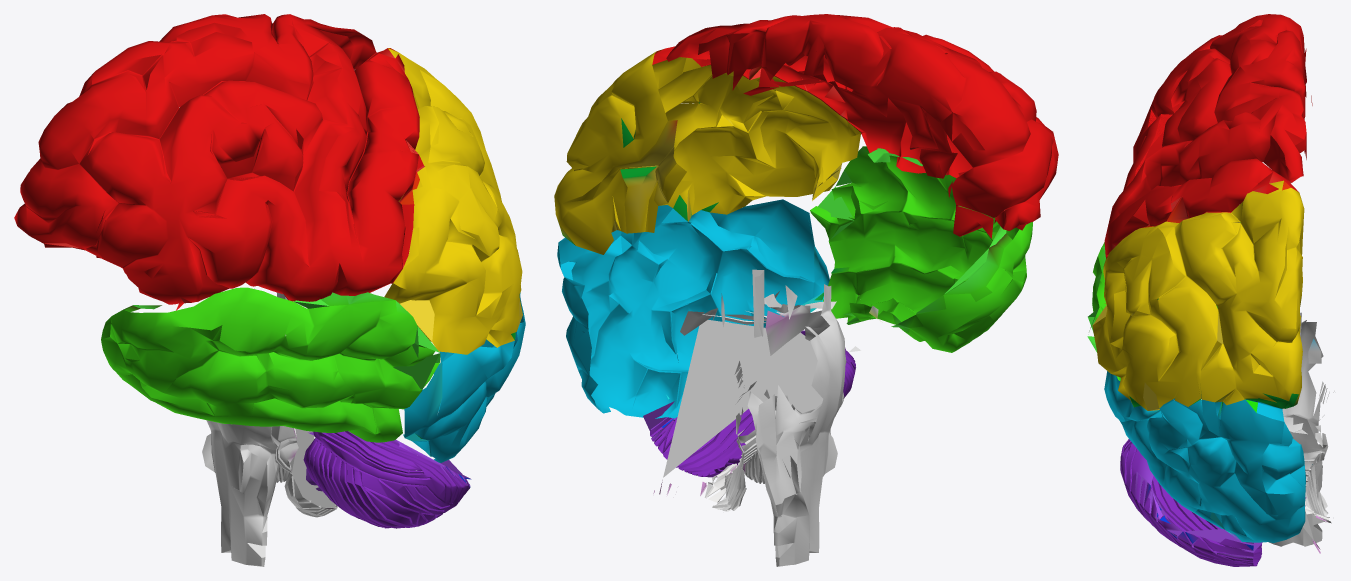
File: brain.glb
3 renders of one model, left to right at view 1: azimuth 30°, elevation 25°; view 2: azimuth 150°, elevation 25°; view 3: azimuth 270°, elevation 25°, orthographic. The views are drawn at different scales.
Parts seen in each view (by area): view 1: RedPart, GreenPart, YellowPart, VioletPart, WhitePart, BluePart; view 2: RedPart, YellowPart, BluePart, WhitePart, GreenPart, VioletPart; view 3: YellowPart, RedPart, BluePart, VioletPart, WhitePart, GreenPart.
Boxes of the visible parts, x1=… form: RedPart: x1=14, y1=14, x2=424, y2=310; GreenPart: x1=101, y1=287, x2=440, y2=442; YellowPart: x1=384, y1=48, x2=522, y2=354; VioletPart: x1=303, y1=431, x2=471, y2=528; WhitePart: x1=202, y1=288, x2=344, y2=566; BluePart: x1=403, y1=292, x2=525, y2=462; RedPart: x1=652, y1=14, x2=1058, y2=238; YellowPart: x1=554, y1=52, x2=860, y2=254; BluePart: x1=557, y1=199, x2=829, y2=418; WhitePart: x1=653, y1=269, x2=878, y2=566; GreenPart: x1=810, y1=146, x2=1032, y2=352; VioletPart: x1=643, y1=330, x2=855, y2=477; YellowPart: x1=1092, y1=180, x2=1304, y2=410; RedPart: x1=1104, y1=14, x2=1312, y2=258; BluePart: x1=1104, y1=371, x2=1312, y2=543; VioletPart: x1=1120, y1=439, x2=1262, y2=566; WhitePart: x1=1201, y1=312, x2=1334, y2=553; GreenPart: x1=1087, y1=222, x2=1240, y2=380.
Bounding box in the file's own units: 0.2952 × 0.3237 × 0.1511.
